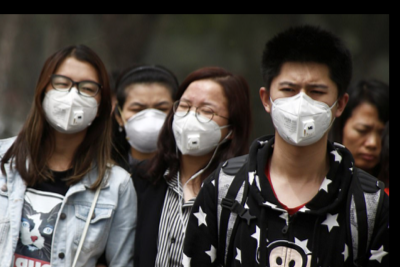with_mask: (268, 75, 338, 147), (40, 72, 101, 133), (171, 93, 230, 154), (119, 95, 174, 153)
without_mask: (342, 118, 387, 170)
